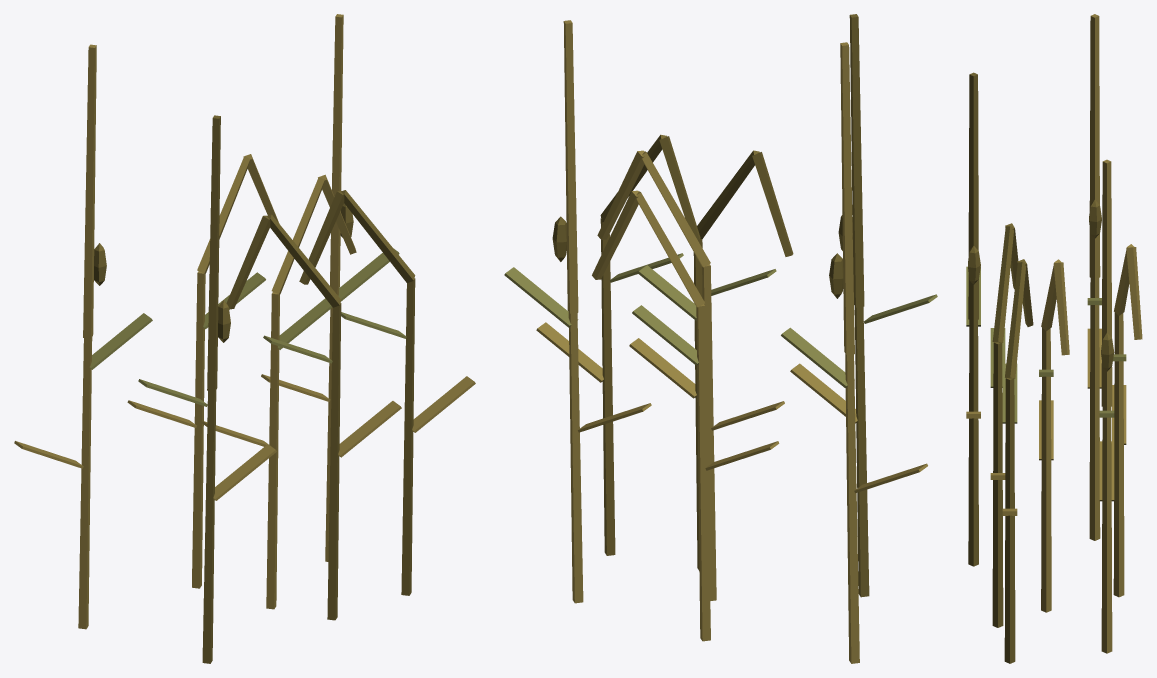
The model's file is trap_bent_stalks.glb.
3 renders of one model, left to right at view 1: azimuth 30°, elevation 25°; view 2: azimuth 150°, elevation 25°; view 3: azimuth 270°, elevation 25°, orthographic. The views are drawn at different scales.
Visible parts, largest first — view 1: Stalks; view 2: Stalks; view 3: Stalks.
Part boxes in pixels (x1,y1,x2,y2): Stalks: (14, 14, 475, 663); Stalks: (504, 14, 937, 663); Stalks: (966, 14, 1142, 663).
Bounding box in the file's own units: 1.77 × 2.4 × 0.7267.
